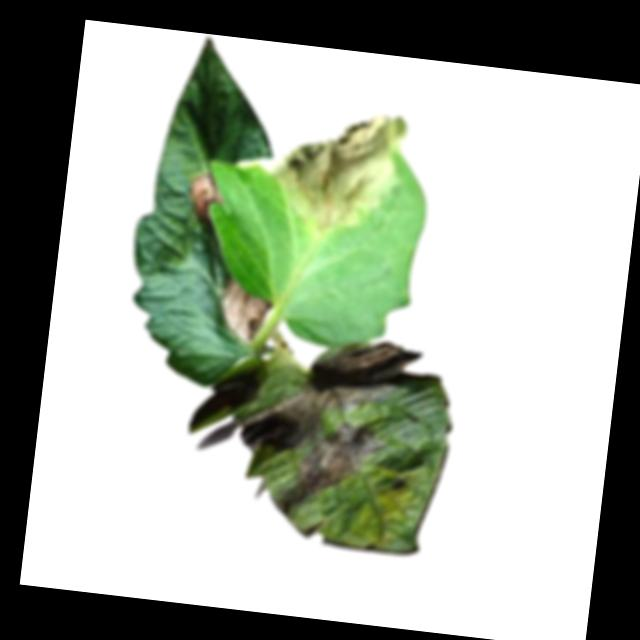Late_blight: (232, 330, 457, 533), (255, 96, 410, 239), (214, 275, 272, 350), (183, 167, 227, 220)
